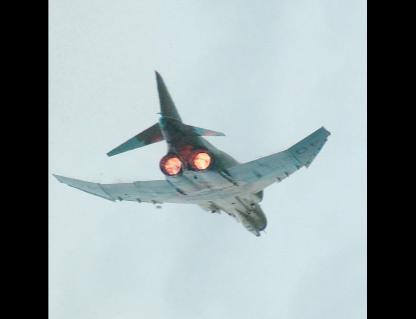F35: (50, 69, 330, 238)
